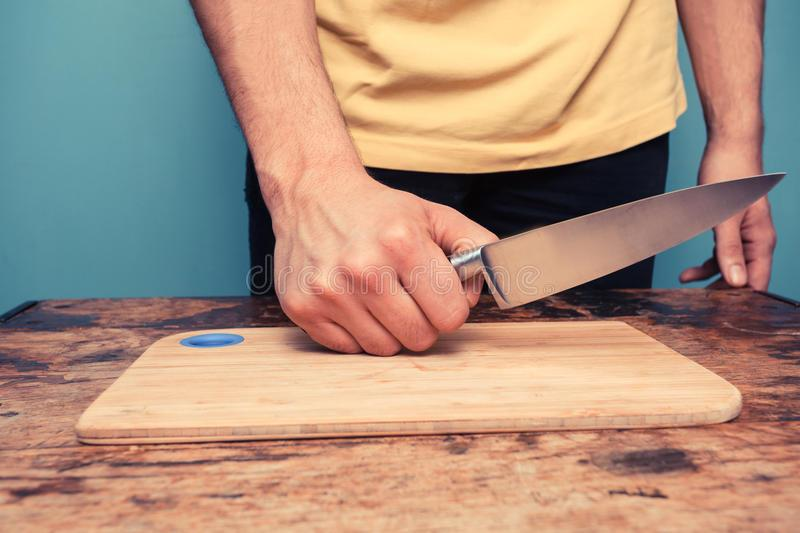weapon: (441, 170, 790, 313)
